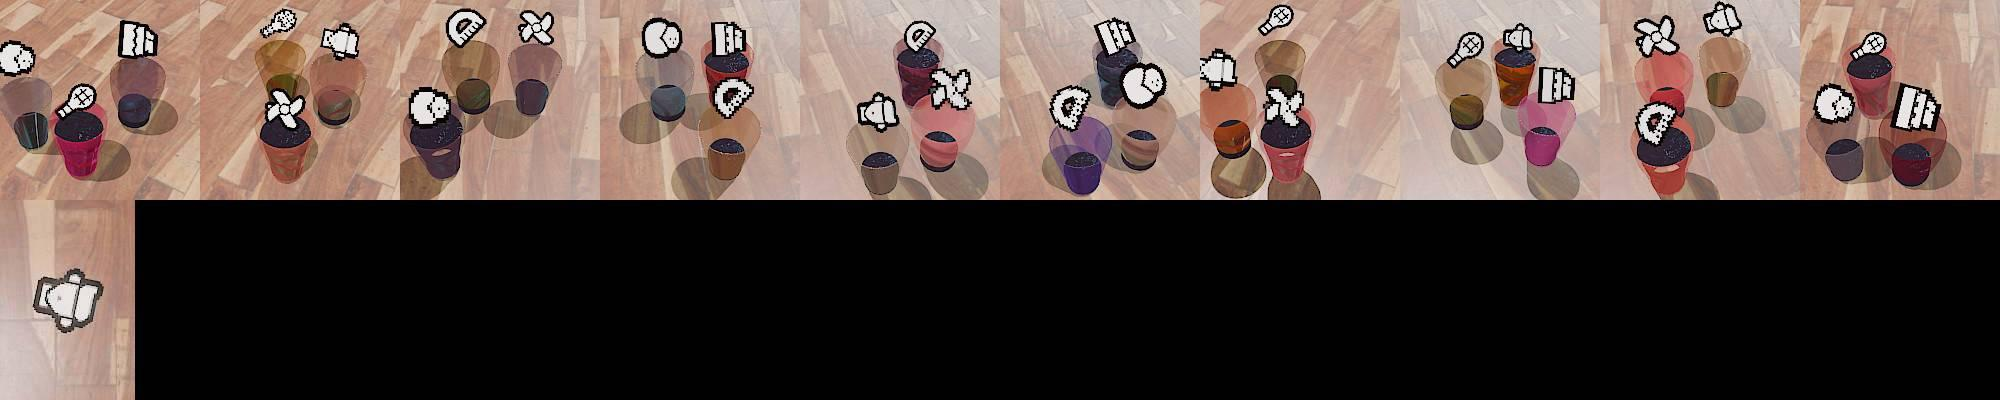icon: (32, 266, 105, 333), (1891, 83, 1941, 132), (1120, 60, 1167, 108), (1634, 99, 1680, 147), (1049, 83, 1092, 133), (929, 66, 974, 111), (1633, 15, 1678, 60), (711, 76, 754, 120), (856, 90, 901, 132), (264, 86, 307, 129), (406, 85, 451, 126), (444, 7, 487, 49), (642, 16, 684, 58), (1263, 84, 1305, 126), (1812, 83, 1854, 124), (1093, 17, 1136, 57), (53, 82, 97, 121), (117, 20, 159, 59), (1199, 48, 1238, 89), (321, 21, 362, 60), (1538, 64, 1577, 104), (709, 19, 749, 58), (1447, 31, 1484, 69), (517, 9, 556, 45), (1703, 1, 1742, 36), (0, 40, 36, 77), (902, 19, 937, 55), (1257, 3, 1294, 37), (259, 8, 299, 39), (1850, 31, 1888, 63), (1502, 22, 1535, 52)
